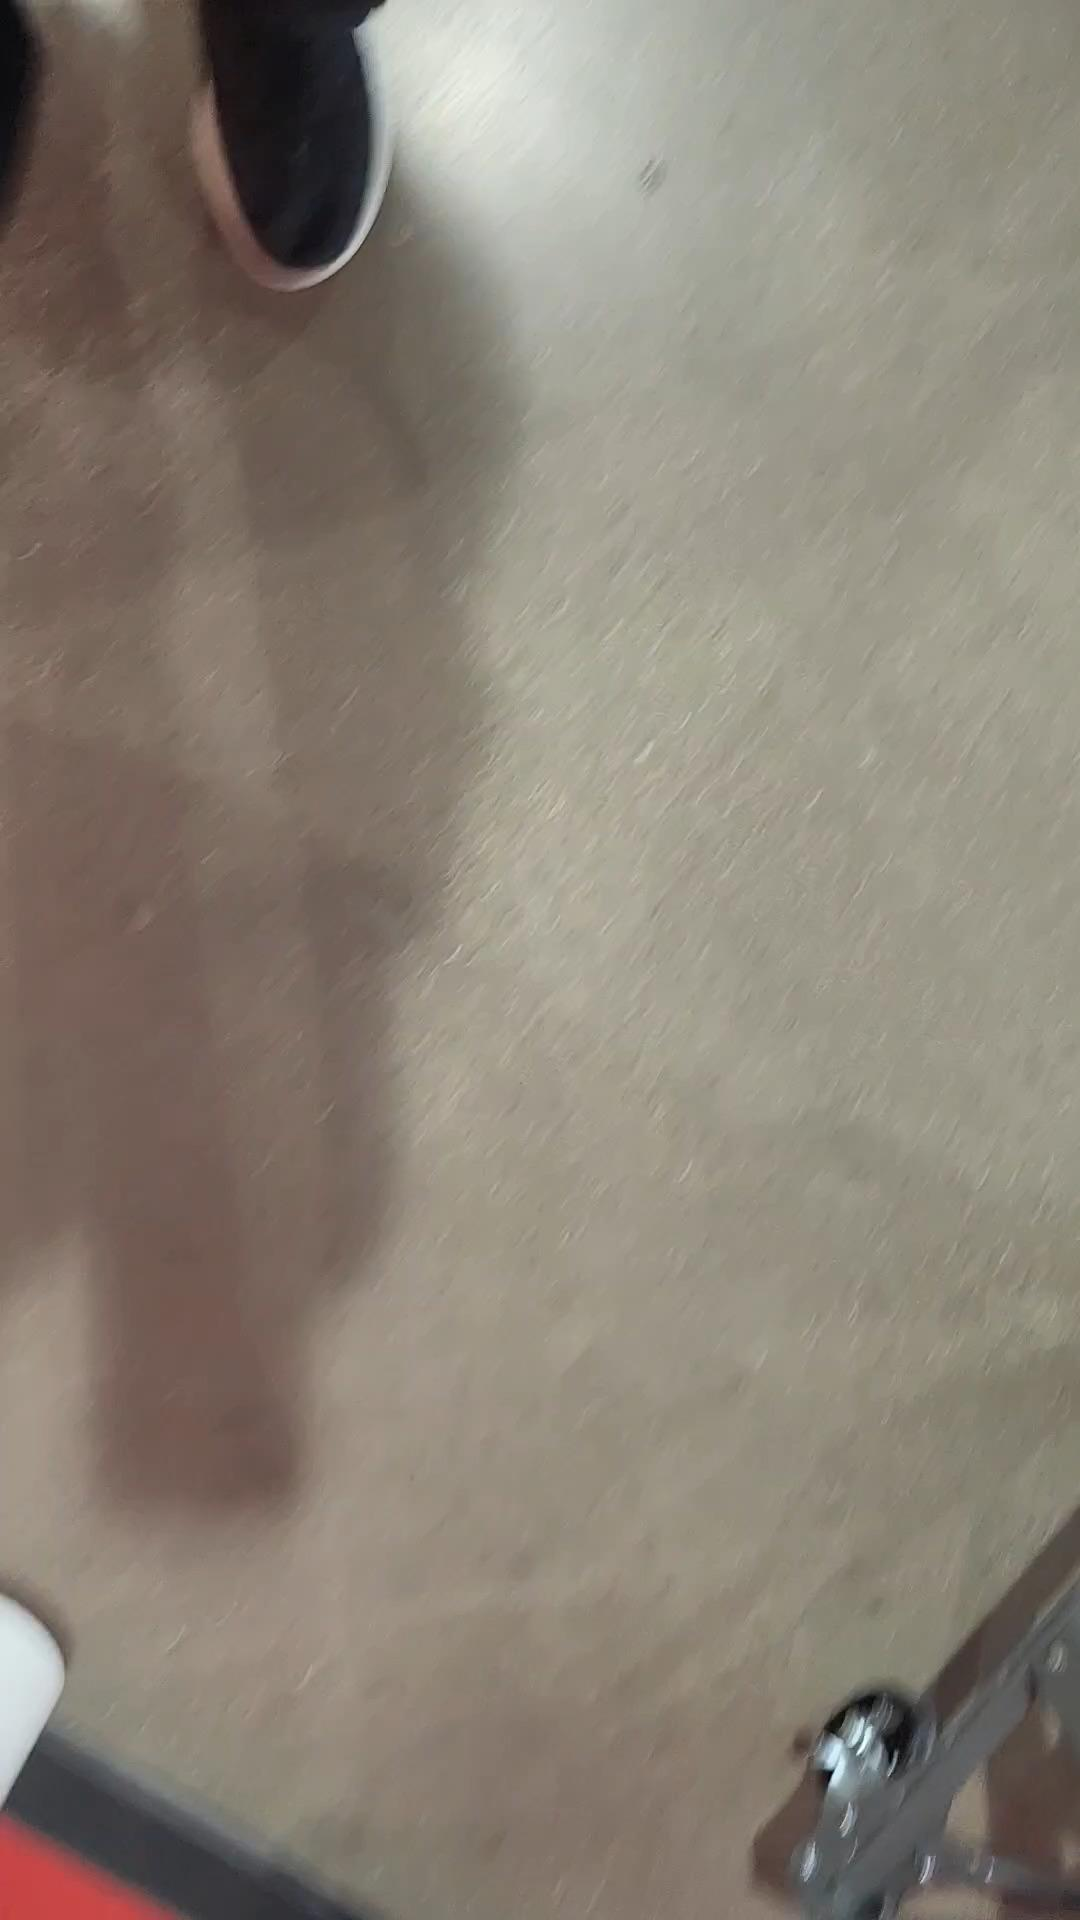coral: (0, 1582, 70, 1822)
